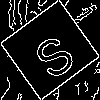S: (25, 25, 80, 82)
